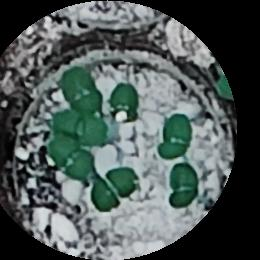Basil: (56, 111, 115, 149), (40, 136, 89, 179), (63, 70, 103, 118), (90, 172, 137, 210), (165, 160, 196, 210), (108, 80, 142, 121), (158, 114, 188, 160)
